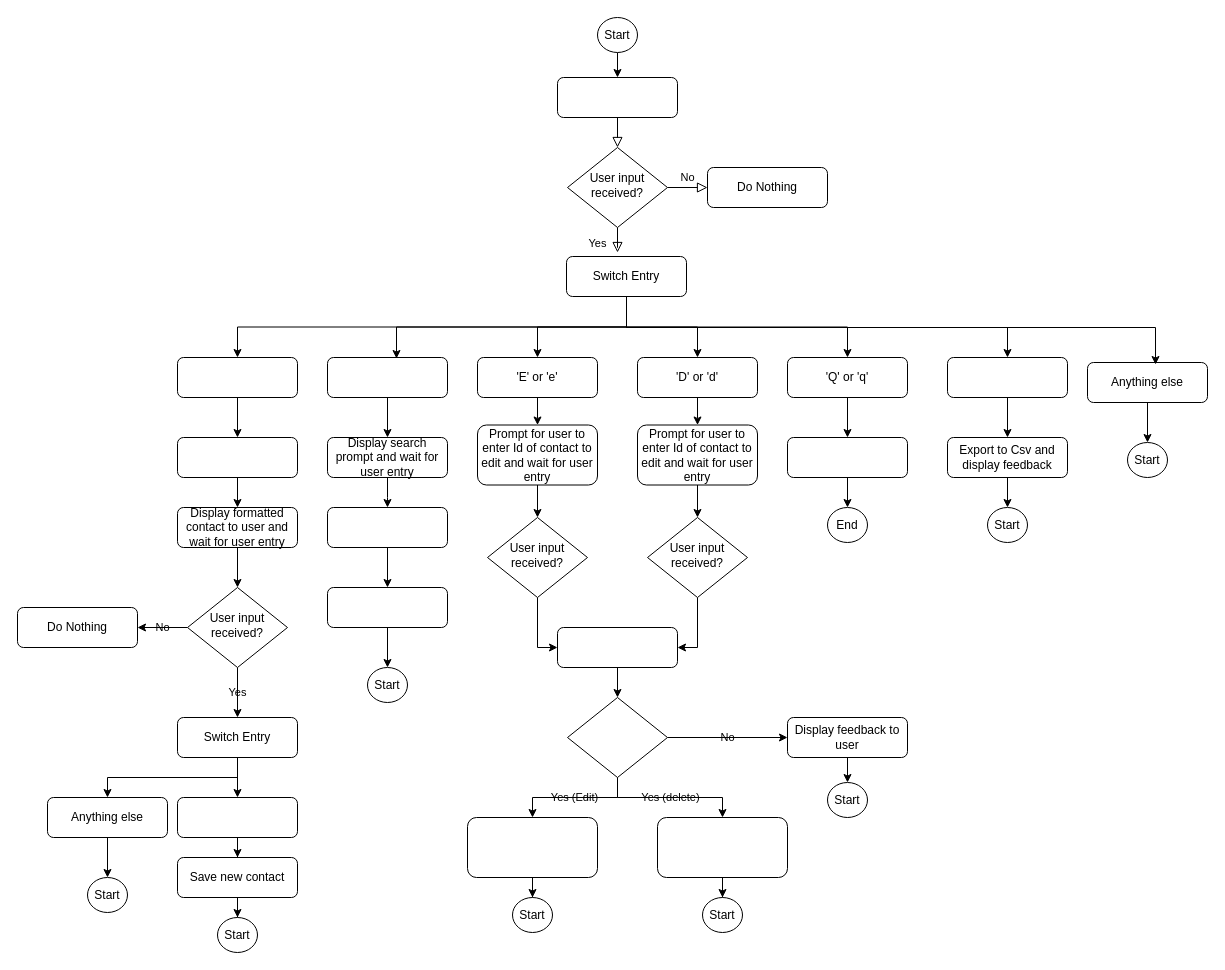
The diagram is 1225 pixels wide and 970 high, and some of its shapes have lost their labels. The centre of each missing label's shape, as x and y in pixels:
"'A' or 'a'" goes at (x=237, y=377).
"'S' or 's'" goes at (x=387, y=377).
"'X' or 'x'" goes at (x=1007, y=377).
"'Y' or 'y'" goes at (x=237, y=817).
"Contact found?" goes at (x=617, y=737).
"Delete Contact" goes at (x=722, y=847).
"Display results to user and wait for any user entry" goes at (x=387, y=607).
"Prompt for each Contact field" goes at (x=237, y=457).
"Prompt for each Contact field. Display updated Contact to user" goes at (x=532, y=847).
"Search Contacts for match on full name." goes at (x=387, y=527).
"Show bye message and quit program" goes at (x=847, y=457).
"Show User Prompt" goes at (x=617, y=97).
"Try get Contact by Id and Display result to user" goes at (x=617, y=647).
